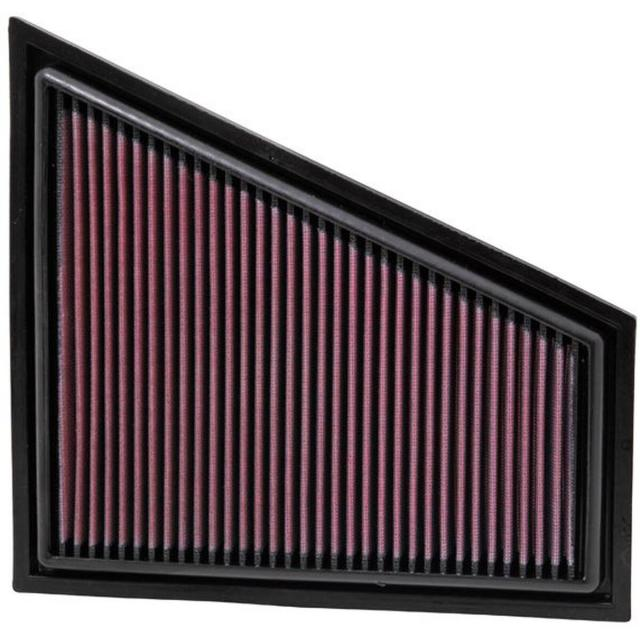air_filter: (9, 1, 640, 633)
